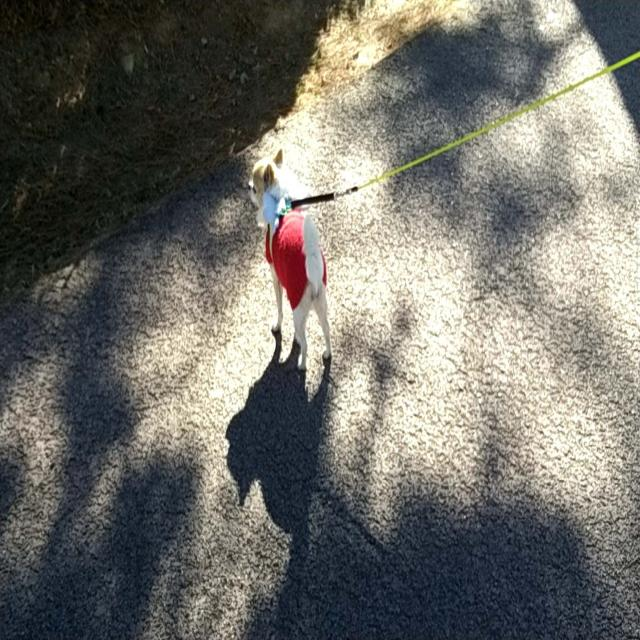Dog: (248, 150, 332, 371)
